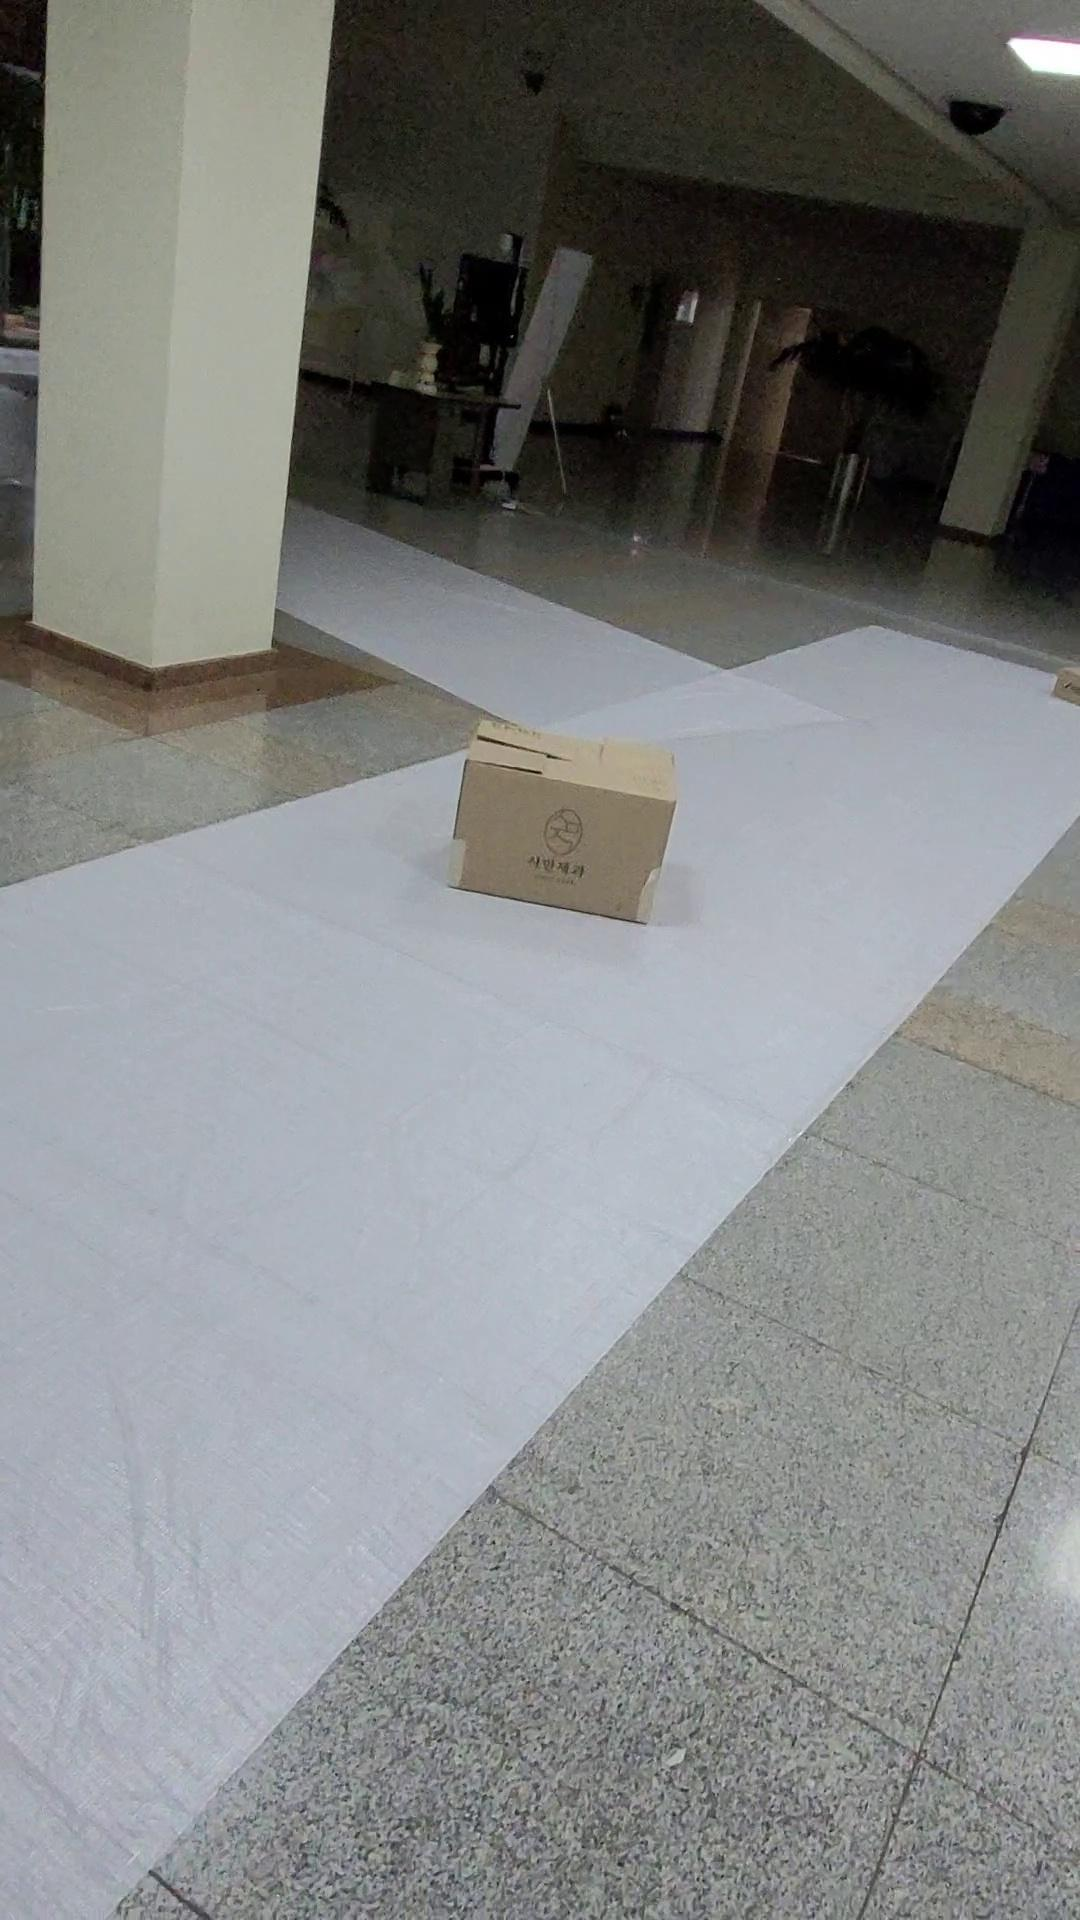Box: (433, 709, 702, 938)
